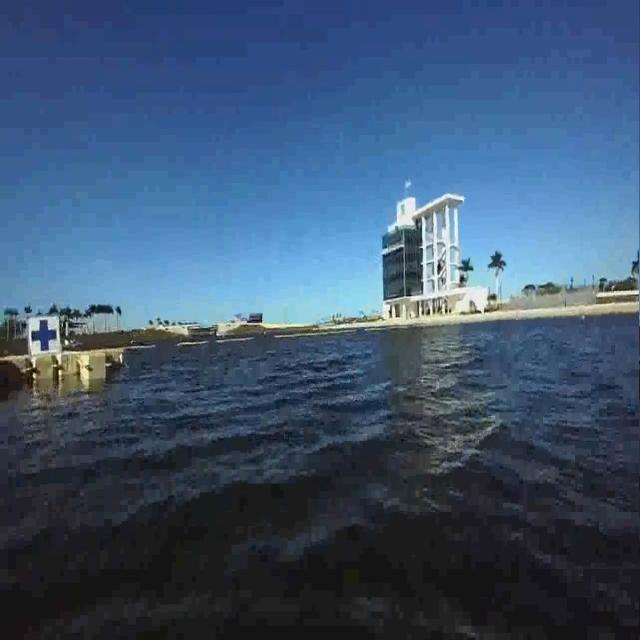blue-cross: (28, 314, 64, 363)
